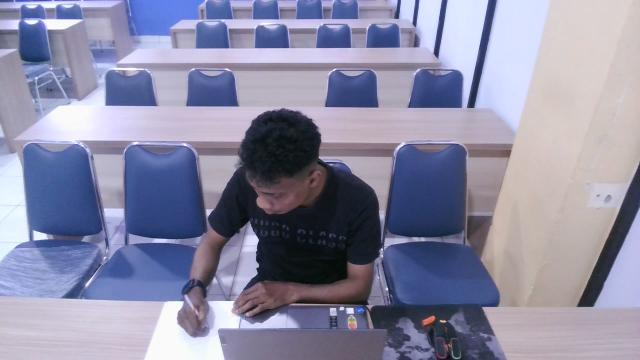Normal_Writing: (161, 102, 397, 360)
